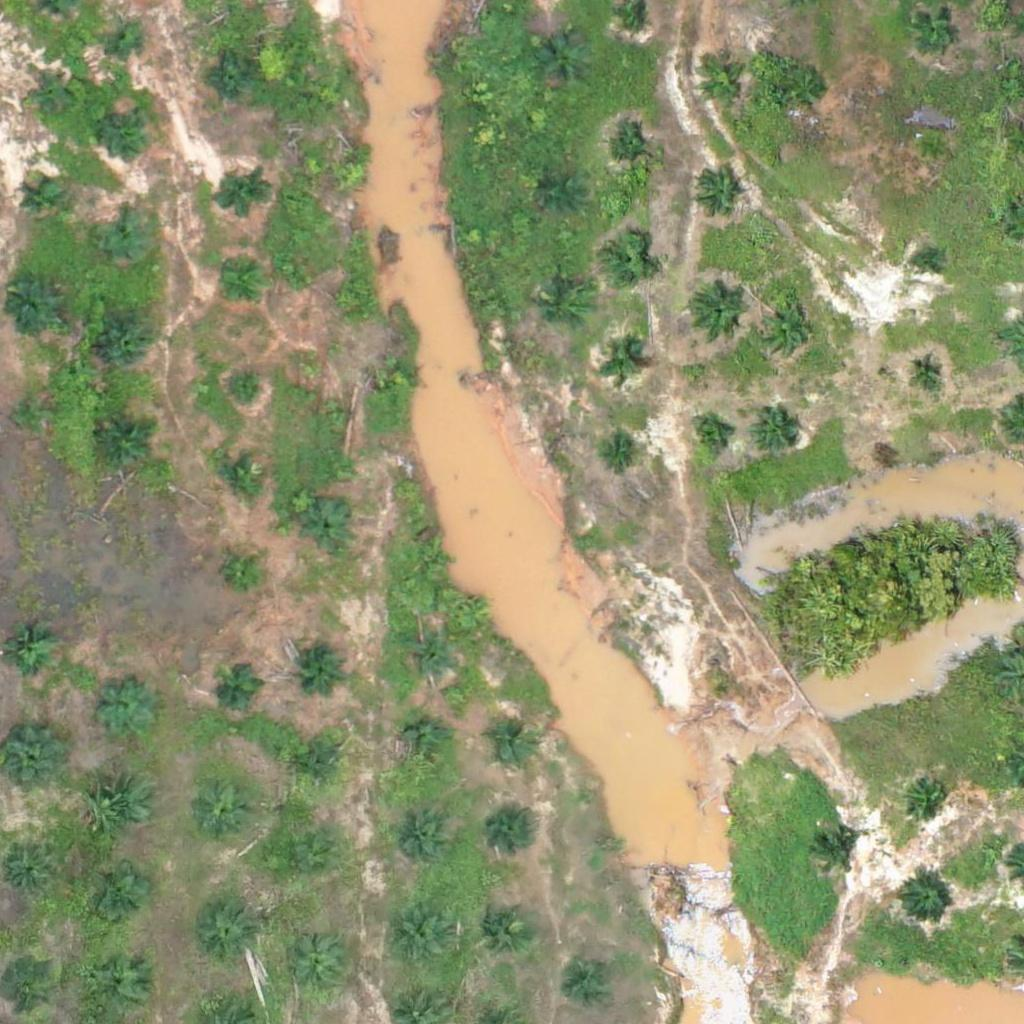Kelapa_Sawit: (274, 833, 337, 896), (389, 809, 452, 872), (1, 726, 64, 789), (96, 209, 159, 272), (387, 906, 450, 969), (84, 951, 147, 1014), (754, 298, 817, 361), (85, 865, 147, 928), (196, 780, 258, 843), (95, 678, 157, 741), (195, 901, 257, 964), (284, 939, 346, 1002), (474, 897, 536, 960), (91, 778, 153, 841), (688, 280, 750, 343), (103, 316, 153, 367), (102, 419, 152, 470), (784, 63, 834, 114), (213, 451, 263, 502), (697, 57, 747, 108), (104, 107, 154, 157), (1, 847, 51, 897), (490, 808, 540, 858), (297, 639, 347, 689), (215, 664, 265, 714), (404, 634, 454, 684), (303, 503, 353, 553), (400, 719, 450, 769), (486, 718, 536, 768), (899, 876, 949, 926), (568, 954, 618, 1004), (902, 772, 952, 822), (811, 828, 861, 878), (294, 743, 344, 793), (605, 128, 655, 178), (603, 237, 653, 287), (692, 170, 742, 220), (752, 406, 802, 456), (217, 171, 267, 221), (215, 261, 265, 311), (912, 3, 962, 53), (539, 36, 589, 86), (208, 56, 258, 106), (541, 287, 591, 337), (412, 541, 450, 579), (224, 552, 262, 590), (602, 342, 640, 380), (603, 433, 641, 471), (690, 416, 728, 454), (316, 393, 354, 431), (326, 280, 364, 318), (332, 155, 370, 193), (110, 15, 148, 53), (909, 353, 946, 391), (380, 355, 417, 393), (913, 129, 951, 166), (543, 175, 580, 213), (33, 78, 70, 116), (14, 395, 51, 433), (226, 374, 263, 411), (24, 182, 61, 219), (915, 250, 940, 275), (622, 4, 647, 29)
